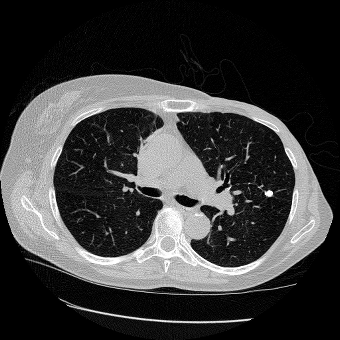nodule: (265, 189, 273, 197)
